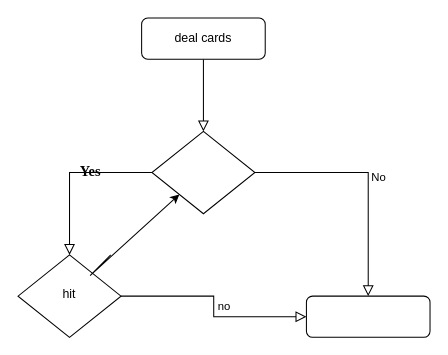
The diagram is 448 pixels wide and 355 high, and some of its shapes have lost their labels. The shapes that lost their labels are listed below. From the top down, each one's centre as x and y in pixels, then its label:
(203,172): ask for more
(367,316): deal cpu one, show cards
